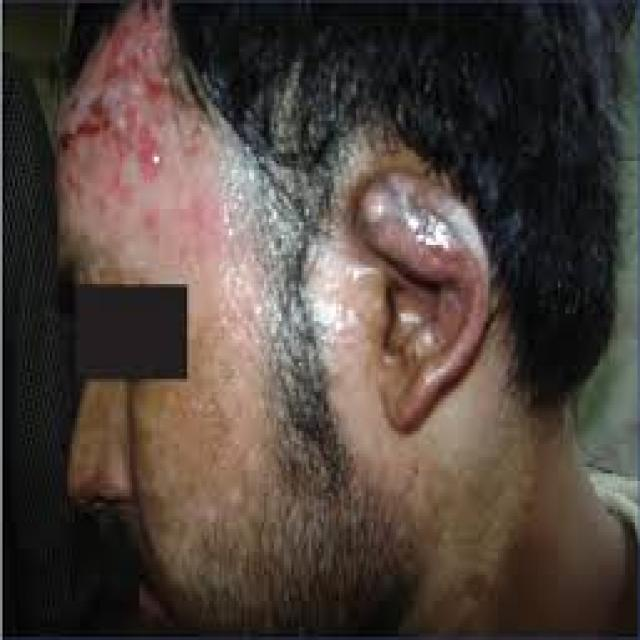burn: (47, 0, 532, 632)
